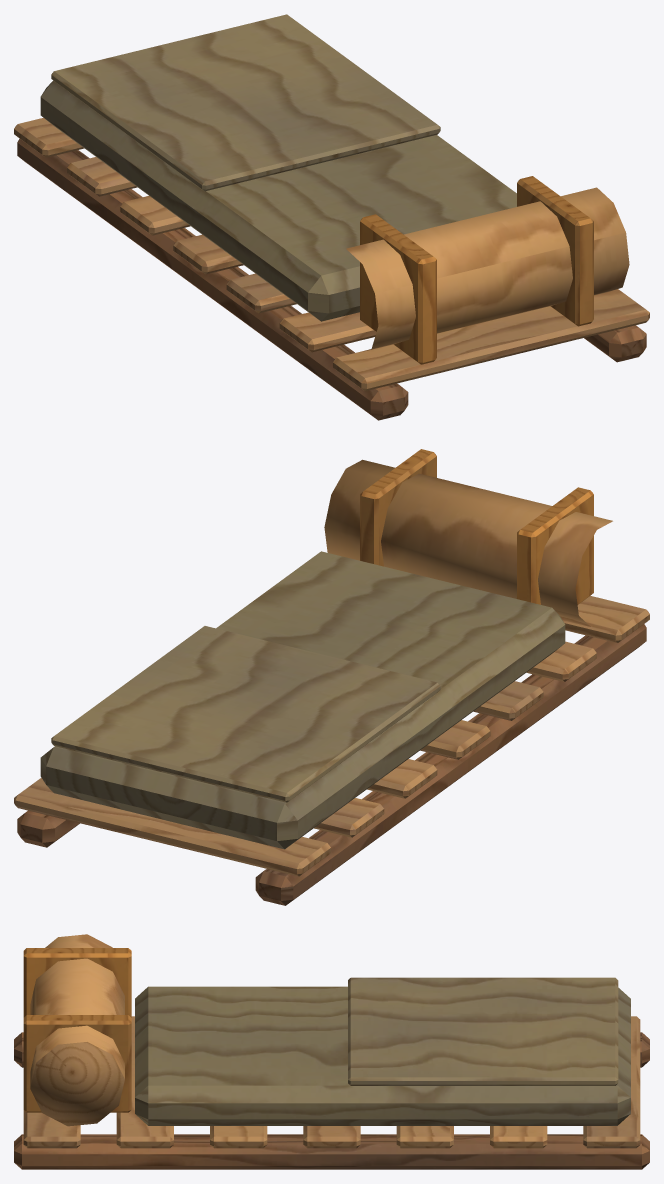
Rendered from uyku_tulumu.glb.
The picture shows the model from 3 angles, top to bottom: view 1: azimuth 30°, elevation 25°; view 2: azimuth 150°, elevation 25°; view 3: azimuth 270°, elevation 25°; orthographic projection. The views are drawn at different scales.
Parts seen in each view (by area): view 1: uyku_tulumu; view 2: uyku_tulumu; view 3: uyku_tulumu.
Part boxes in pixels (x1=…): uyku_tulumu: x1=14, y1=14, x2=649, y2=420; uyku_tulumu: x1=14, y1=449, x2=649, y2=905; uyku_tulumu: x1=14, y1=934, x2=649, y2=1169.
Size of the model in its own units: 0.92 by 0.45 by 2.
Materials: 1 (1 with a texture image).
